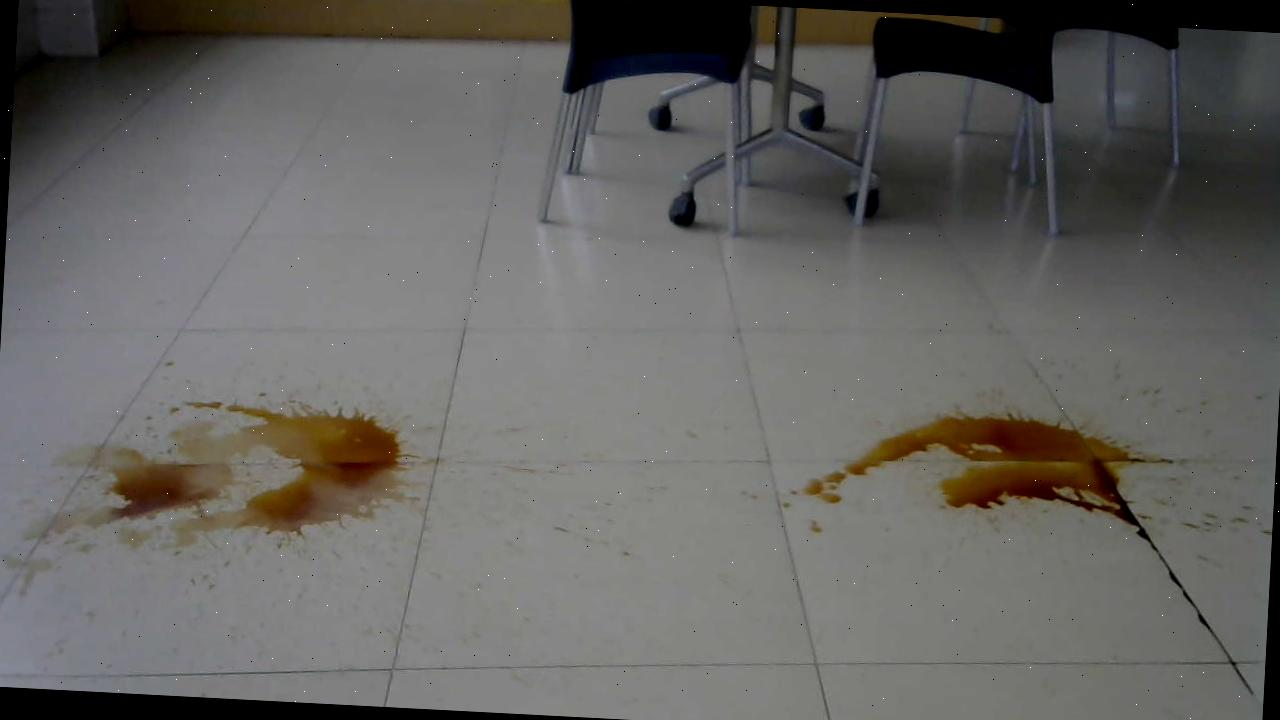dirty_floor: (759, 368, 1198, 569), (36, 371, 453, 563)
